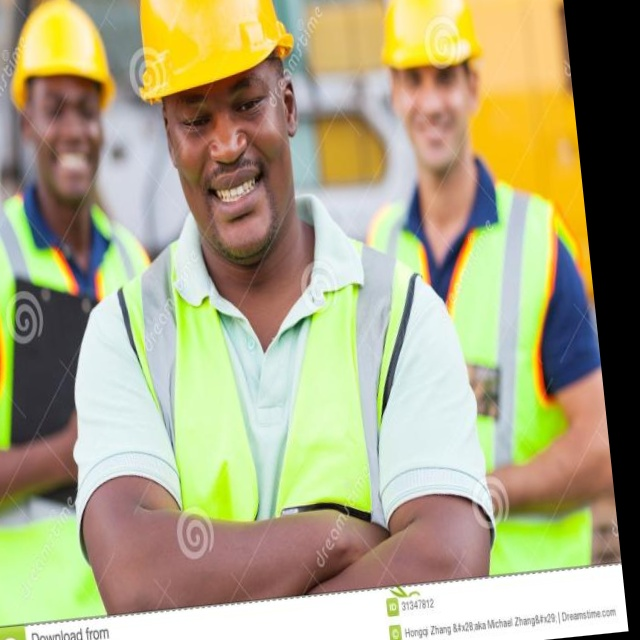Con_Casco: (127, 0, 313, 246)
Con_Chaleco: (104, 217, 463, 611), (362, 181, 607, 584), (0, 192, 180, 521)
